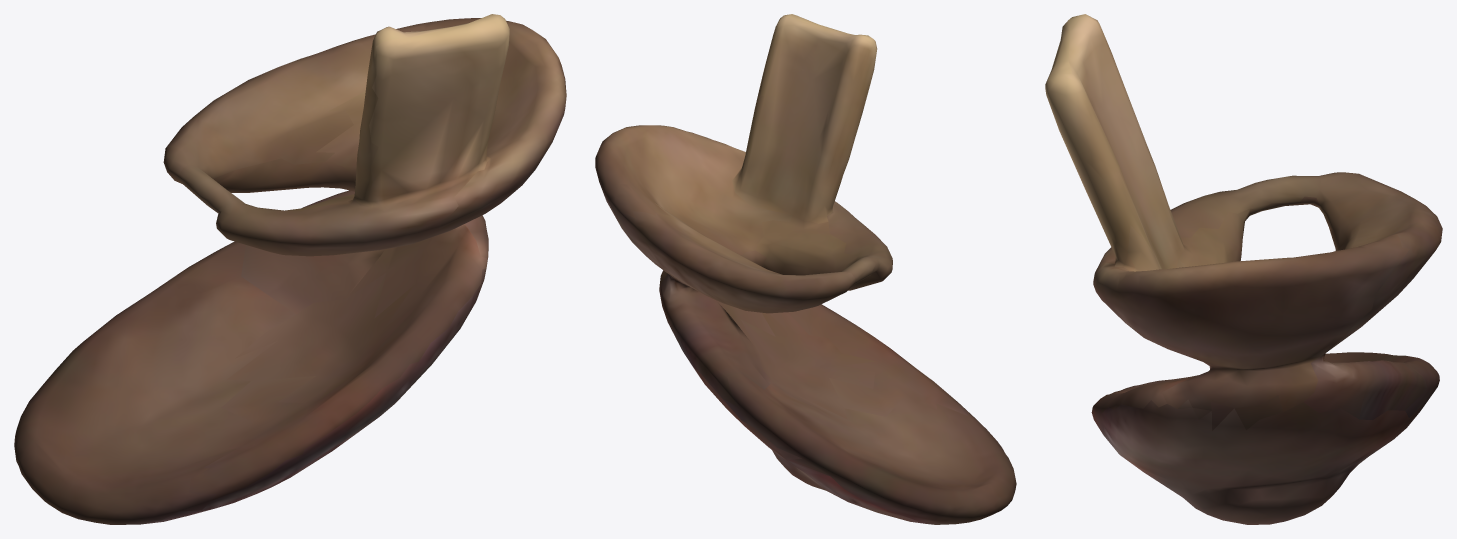
Rendered from v17_prato_velas.glb.
3 views of the same model, side by side, from view 1: azimuth 30°, elevation 25°; view 2: azimuth 150°, elevation 25°; view 3: azimuth 270°, elevation 25° (orthographic). The views are drawn at different scales.
Visible parts, largest first — view 1: v17_prato_velas; view 2: v17_prato_velas; view 3: v17_prato_velas.
Boxes of the visible parts, <box> form: v17_prato_velas: <box>14,14,566,524</box>; v17_prato_velas: <box>595,14,1016,524</box>; v17_prato_velas: <box>1045,14,1442,524</box>.
Bounding box in the file's own units: 0.406 × 0.3848 × 0.2581.
Materials: 1 (1 with a texture image).
